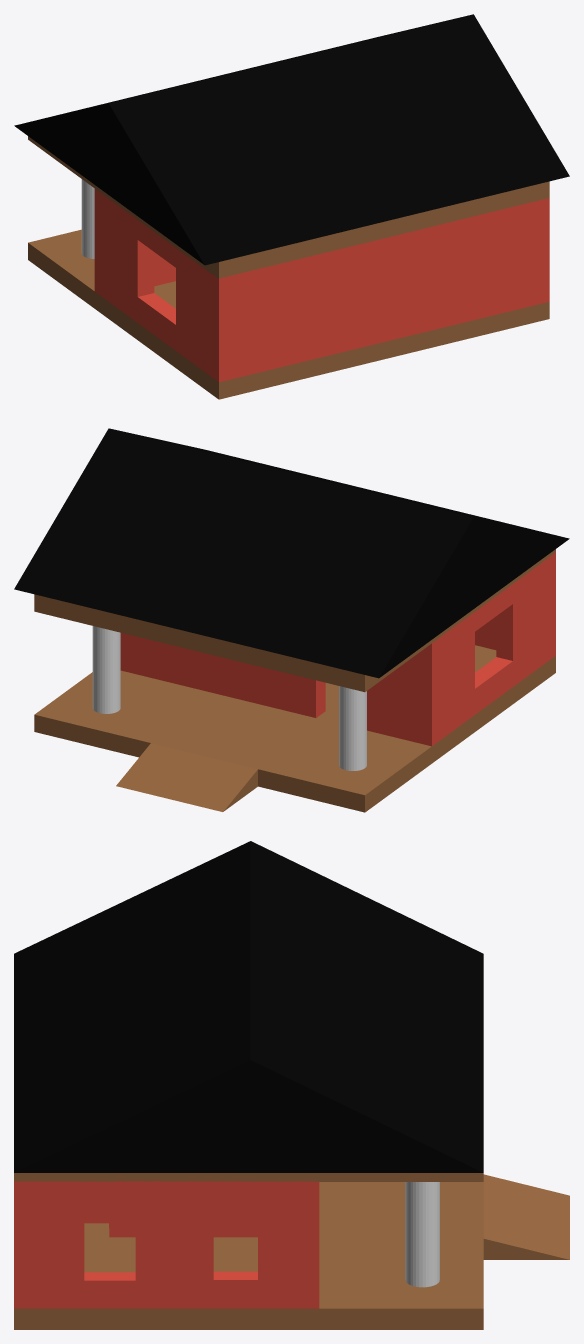
Rendered from House.fbx.
3 views of the same model, one above another, from view 1: azimuth 30°, elevation 25°; view 2: azimuth 150°, elevation 25°; view 3: azimuth 270°, elevation 25° (orthographic). The views are drawn at different scales.
Visible parts, largest first — view 1: Cube.003, Cube.001, Cube, Cube.002, Cylinder.001; view 2: Cube.003, Cube, Cube.001, Cube.002, Cylinder, Cylinder.001; view 3: Cube.003, Cube, Cube.001, Cube.002, Cylinder.
Part boxes in pixels (x1=…): Cube.003: x1=14, y1=14, x2=569, y2=265; Cube.001: x1=94, y1=189, x2=549, y2=382; Cube: x1=28, y1=229, x2=549, y2=399; Cube.002: x1=28, y1=136, x2=549, y2=278; Cylinder.001: x1=81, y1=179, x2=94, y2=258; Cube.003: x1=14, y1=428, x2=569, y2=678; Cube: x1=34, y1=645, x2=555, y2=812; Cube.001: x1=120, y1=552, x2=555, y2=746; Cube.002: x1=34, y1=549, x2=555, y2=692; Cylinder: x1=92, y1=626, x2=120, y2=713; Cylinder.001: x1=339, y1=686, x2=366, y2=770; Cube.003: x1=14, y1=841, x2=483, y2=1172; Cube: x1=14, y1=1174, x2=569, y2=1329; Cube.001: x1=14, y1=1181, x2=319, y2=1308; Cube.002: x1=14, y1=1173, x2=483, y2=1181; Cylinder: x1=405, y1=1182, x2=439, y2=1287.
Size of the model in its own units: 4416 by 2650 by 4736.
